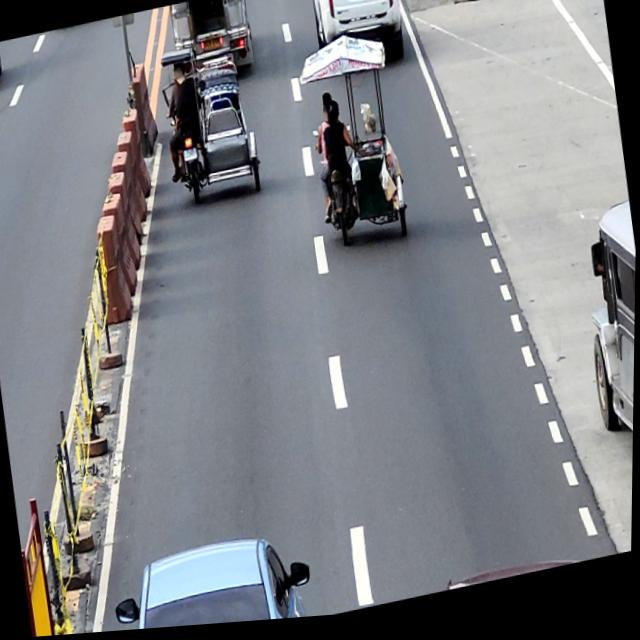Car: (110, 527, 319, 633), (308, 0, 408, 81)
Jeep: (571, 209, 637, 536), (167, 0, 257, 83)
License-Plate: (202, 39, 223, 57), (183, 150, 199, 165), (350, 0, 370, 6)
Tricycle: (292, 29, 414, 261), (157, 45, 266, 214)
